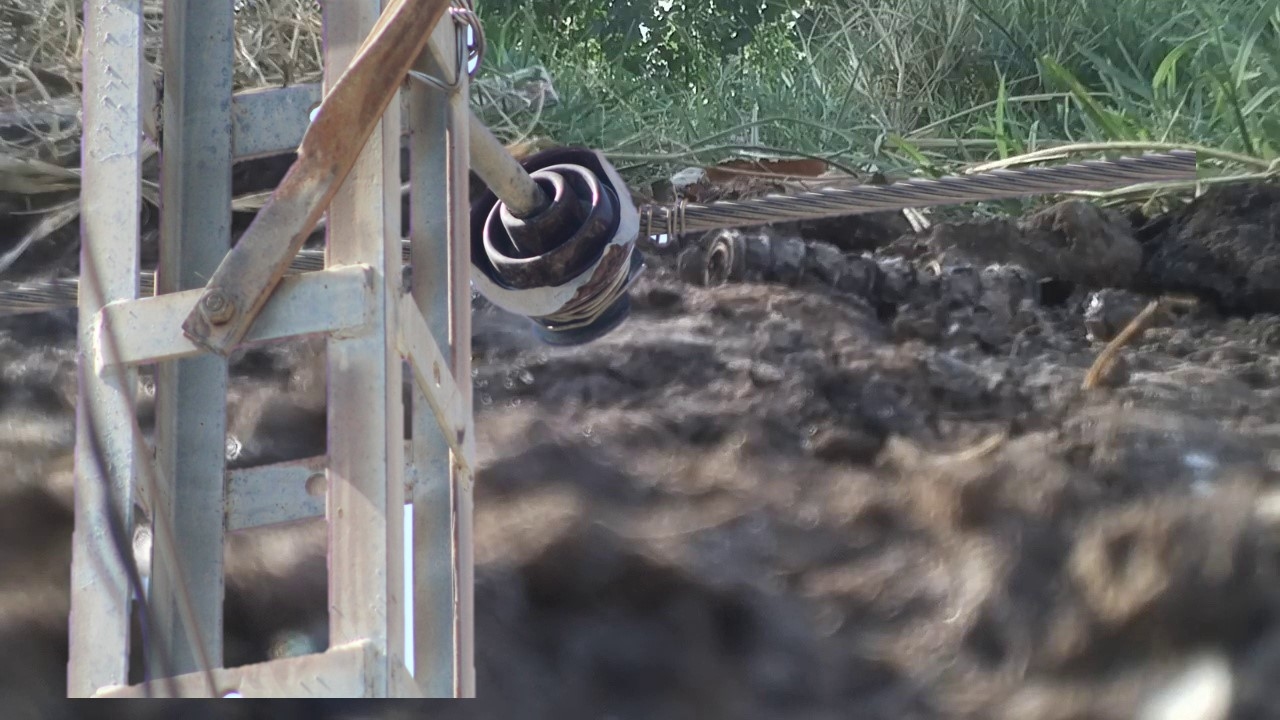defect_pin: (463, 139, 648, 352)
